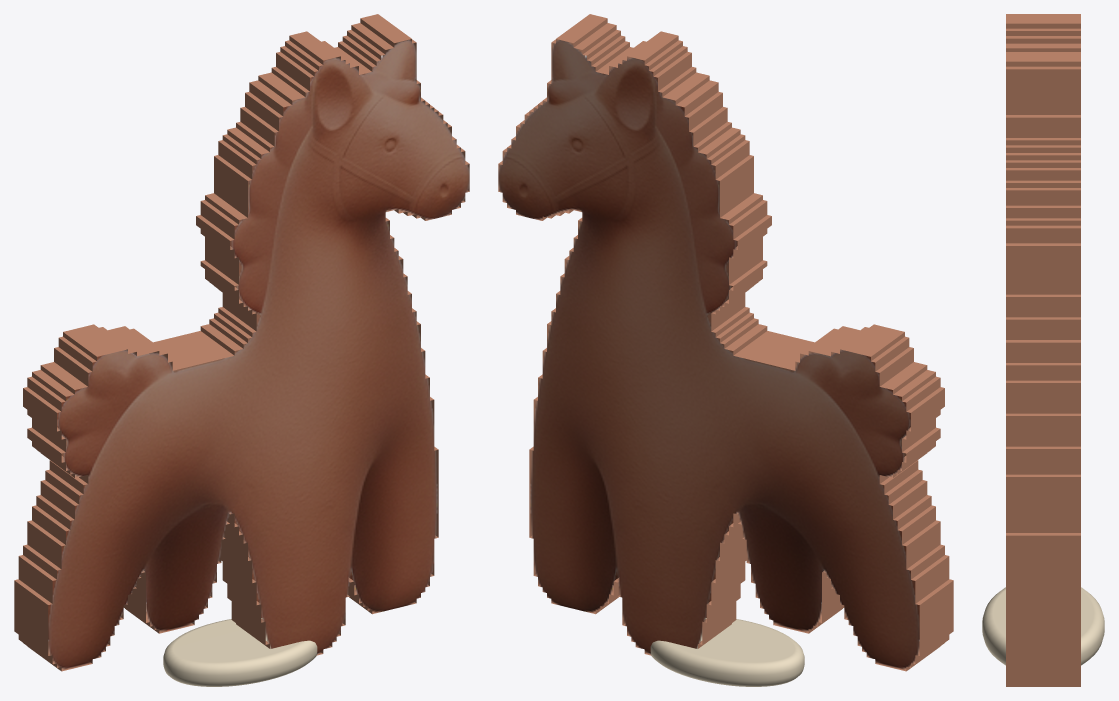
The model's file is ar-clay-horse.glb.
3 renders of one model, left to right at view 1: azimuth 30°, elevation 25°; view 2: azimuth 150°, elevation 25°; view 3: azimuth 270°, elevation 25°, orthographic. The views are drawn at different scales.
Parts seen in each view (by area): view 1: ToyArtworkSilhouette, SmallRoundedDisplayFoot; view 2: ToyArtworkSilhouette, SmallRoundedDisplayFoot; view 3: ToyArtworkSilhouette, SmallRoundedDisplayFoot.
Part boxes in pixels (<box>): ToyArtworkSilhouette: <box>14,14,469,671</box>; SmallRoundedDisplayFoot: <box>163,618,317,686</box>; ToyArtworkSilhouette: <box>498,14,953,671</box>; SmallRoundedDisplayFoot: <box>650,618,804,686</box>; ToyArtworkSilhouette: <box>1006,14,1080,686</box>; SmallRoundedDisplayFoot: <box>982,587,1104,665</box>.
Size of the model in its own units: 0.1487 by 0.202 by 0.034.
3 materials, 1 textured.
